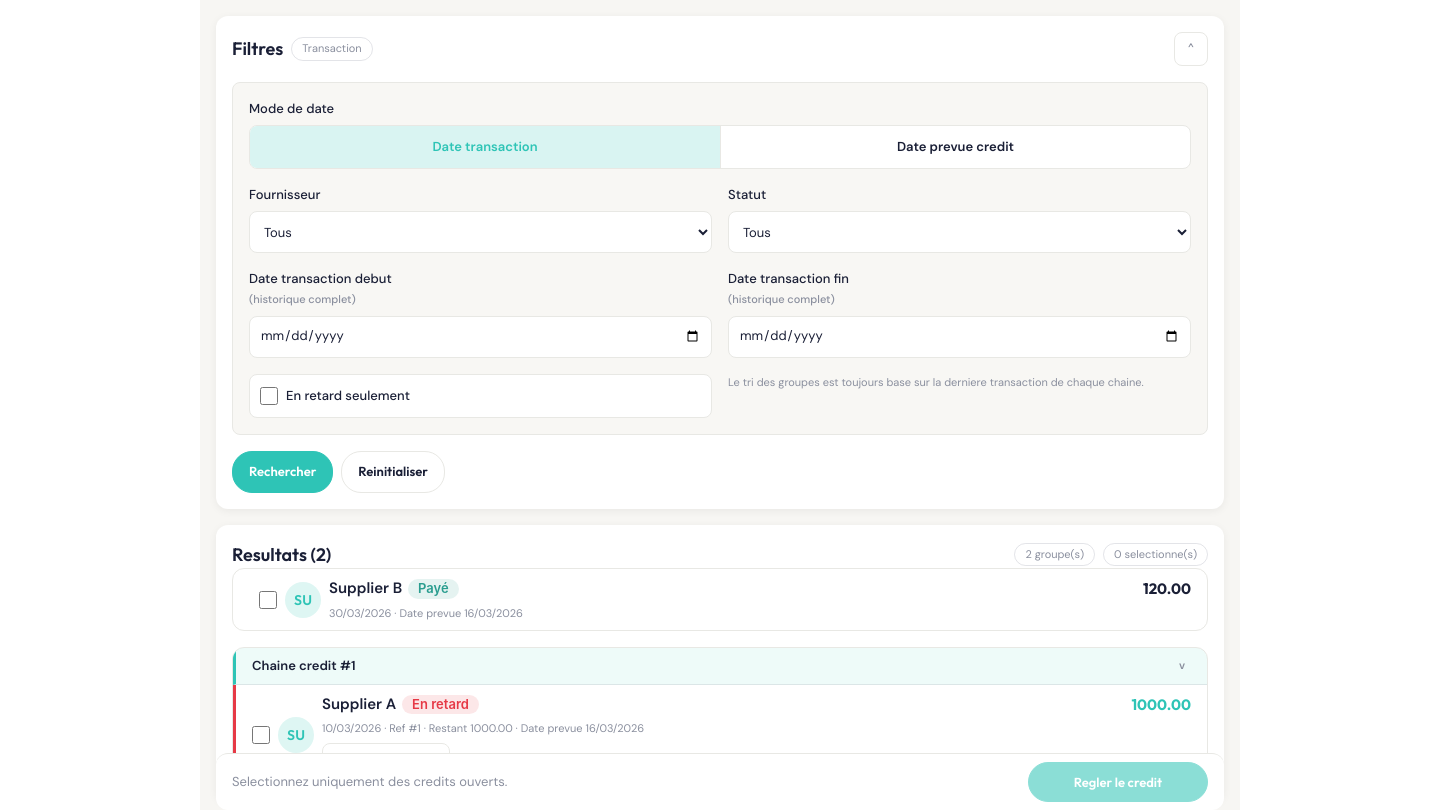
Test: PaymentsSearch credit chains › defaults to transaction-date mode and filters locally by transaction dates
This screenshot has width=1440, height=810.
Expected: the heading "Resultats (2)" is shown, top-left (232, 541), bottom-right (331, 568)
Type "2026-03-20" into the date field labelled "Date transaction debut(historique complet)".
click(480, 337); type("2026-03-20")  # box top-left (249, 316), bottom-right (712, 358)
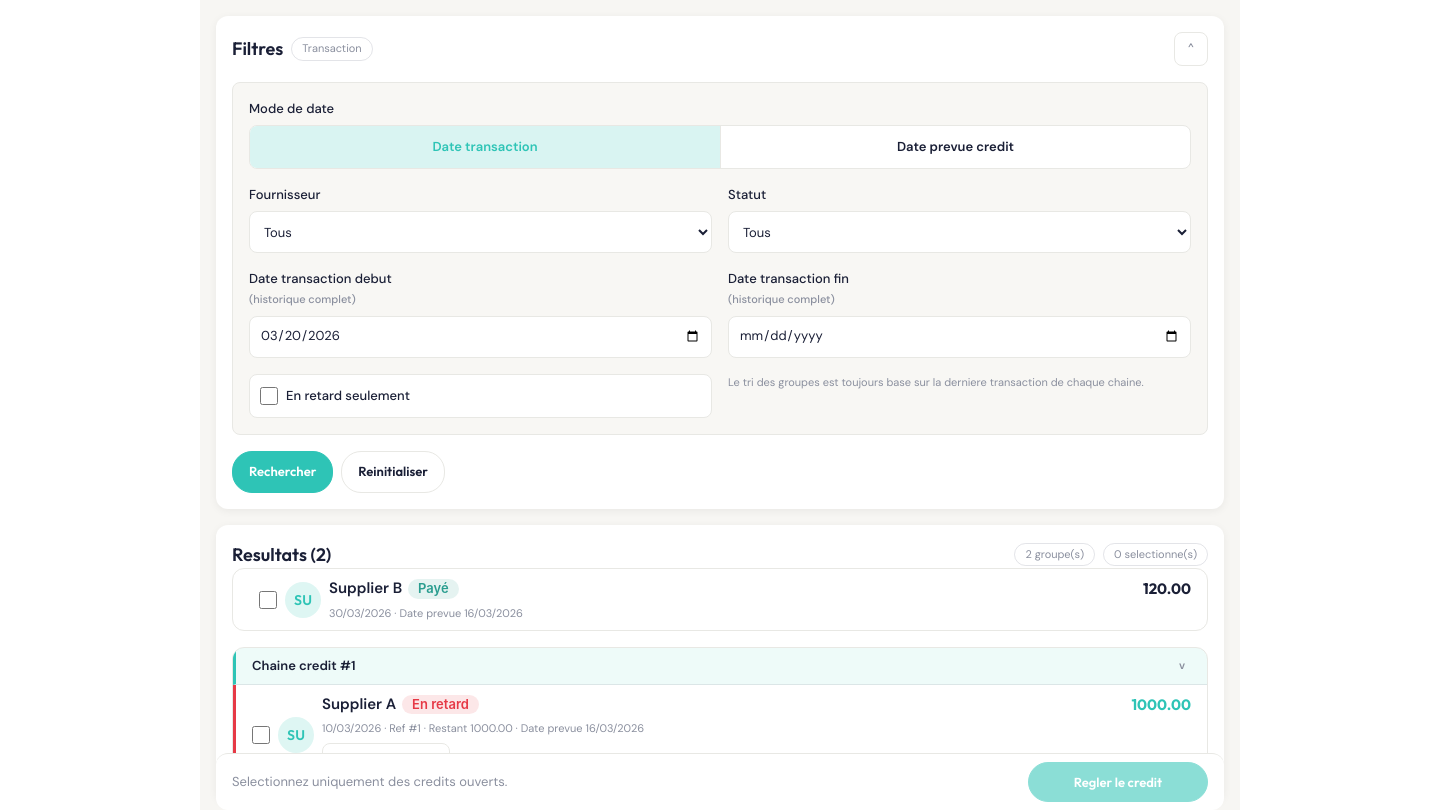
Type "2026-03-31" into the date field labelled "Date transaction fin(historique complet)".
click(960, 337); type("2026-03-31")  # box top-left (728, 316), bottom-right (1191, 358)
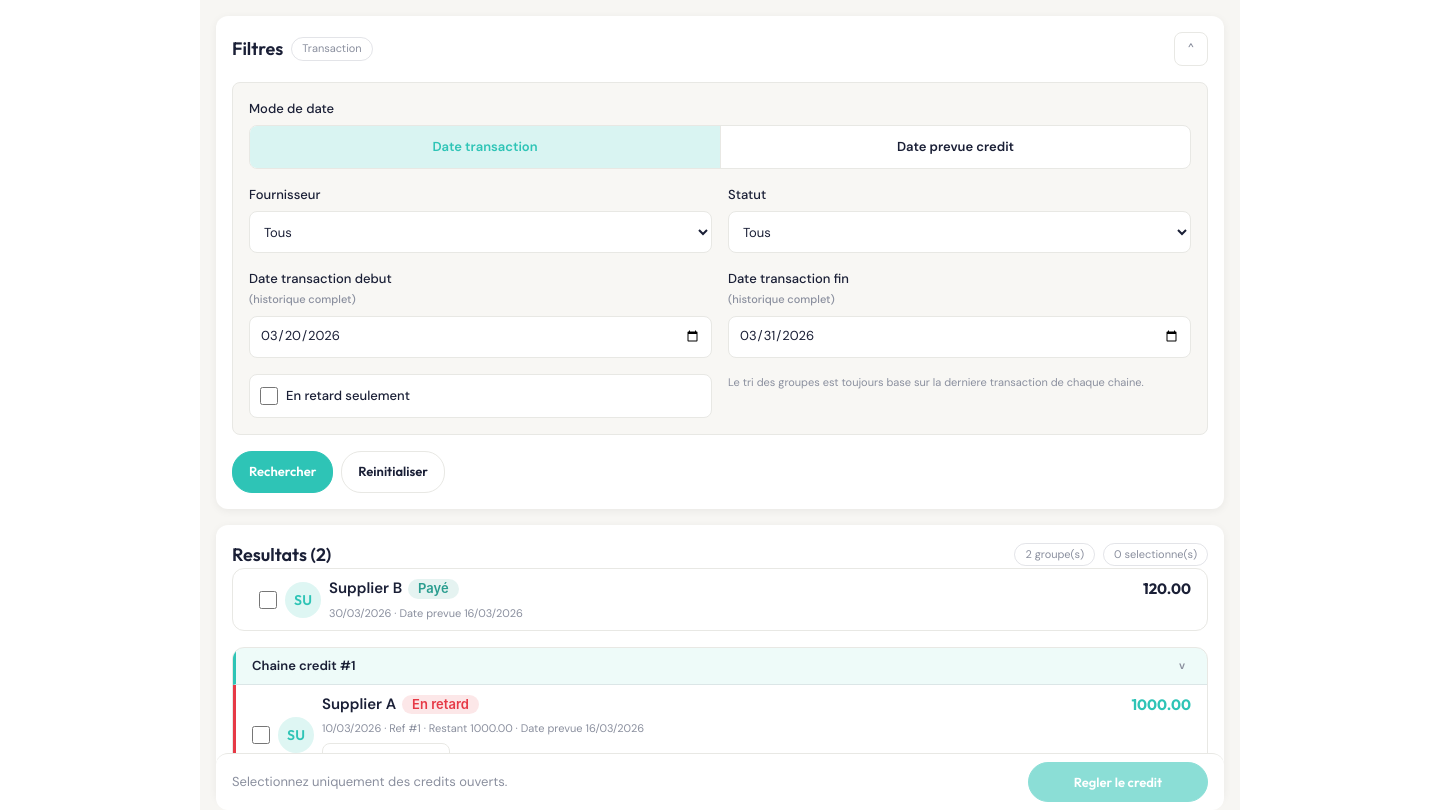
Click the button "Rechercher".
click(283, 472)  # box top-left (232, 451), bottom-right (333, 493)
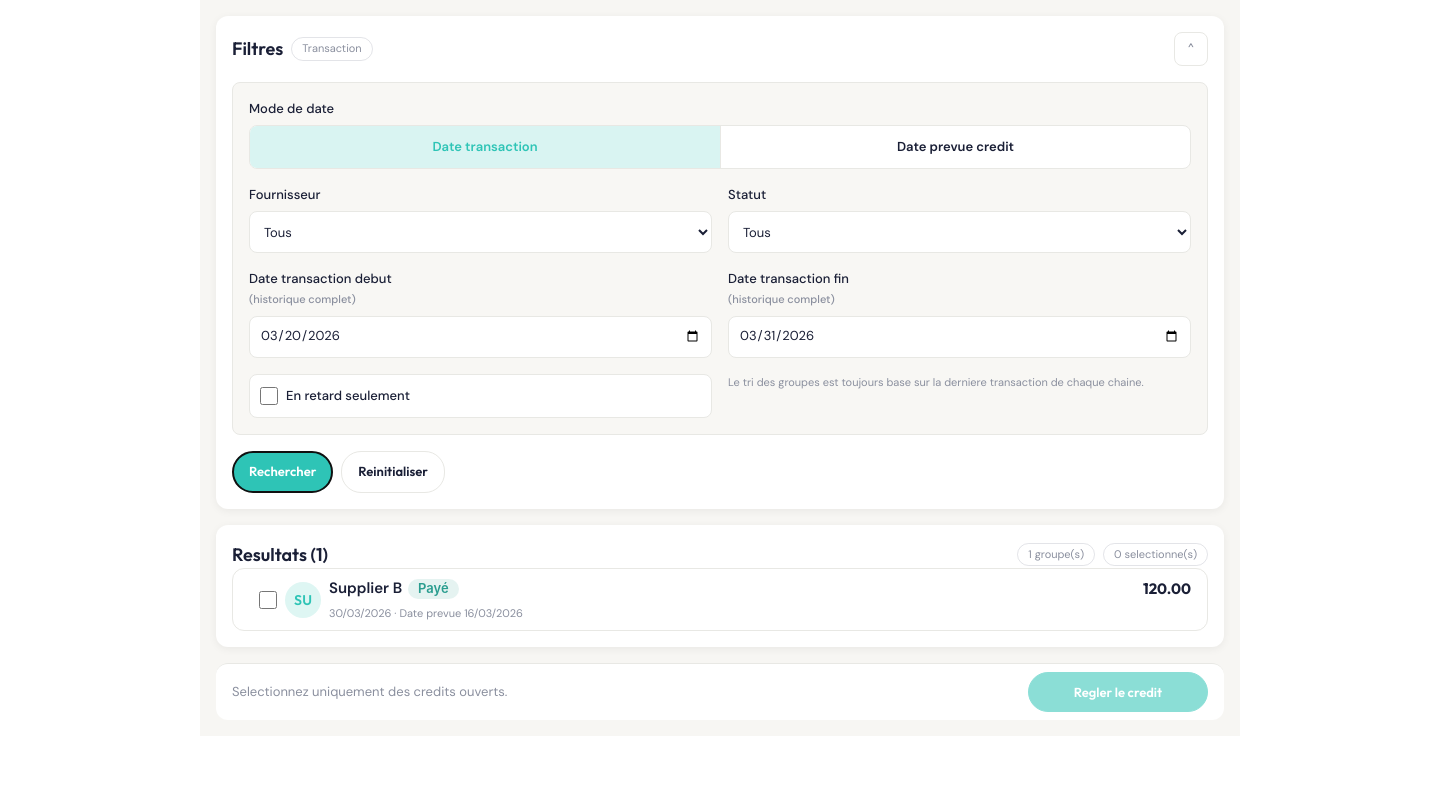
Expected: the text "Supplier B" is shown, top-left (329, 578), bottom-right (402, 601)
Now the heading "Resultats (1)" is shown, box top-left (232, 541), bottom-right (328, 568)
Now the text "Supplier A" is gone
